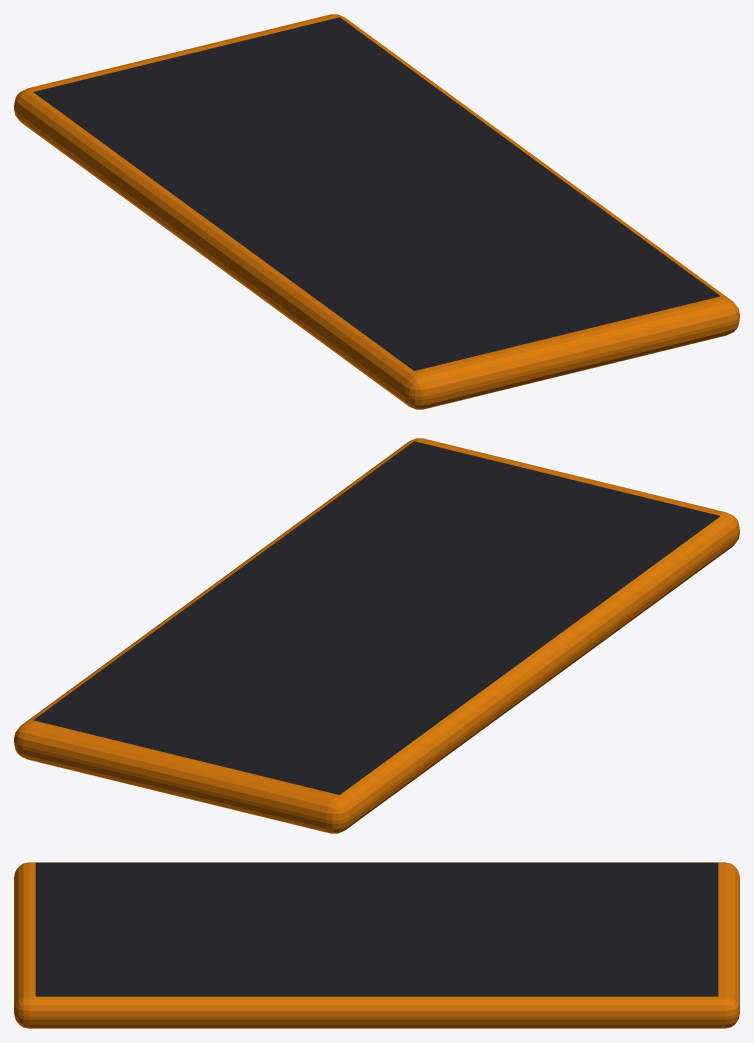
The model's file is Phone_459.glb.
3 renders of one model, top to bottom at view 1: azimuth 30°, elevation 25°; view 2: azimuth 150°, elevation 25°; view 3: azimuth 270°, elevation 25°, orthographic. The views are drawn at different scales.
Parts seen in each view (by area): view 1: Phone_Screen, Phone_Body; view 2: Phone_Screen, Phone_Body; view 3: Phone_Screen, Phone_Body.
Part boxes in pixels (<box>): Phone_Screen: <box>33,17,720,370</box>; Phone_Body: <box>14,14,739,409</box>; Phone_Screen: <box>33,441,720,794</box>; Phone_Body: <box>14,438,739,833</box>; Phone_Screen: <box>35,862,718,996</box>; Phone_Body: <box>14,862,739,1028</box>.
Bounding box in the file's own units: 0.0734 × 0.0074 × 0.1547.
